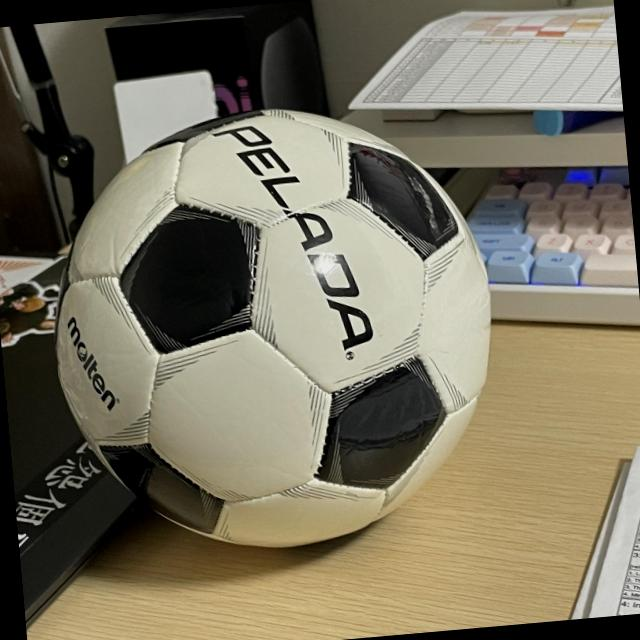Soccer Ball: (34, 93, 508, 566)
